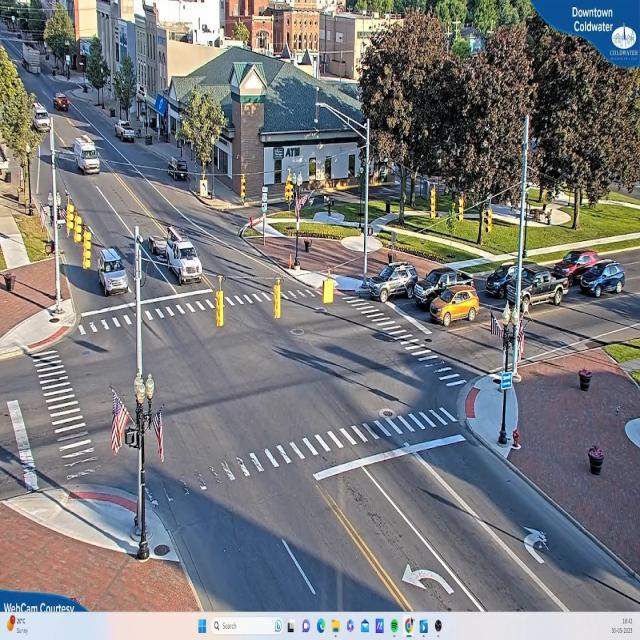car: (488, 266, 570, 310), (411, 266, 476, 308), (164, 238, 204, 290), (368, 266, 418, 304), (430, 291, 480, 326), (578, 264, 627, 298), (98, 245, 130, 294), (551, 250, 603, 280), (72, 134, 101, 175), (117, 122, 137, 144), (33, 110, 52, 132), (55, 94, 69, 110)
